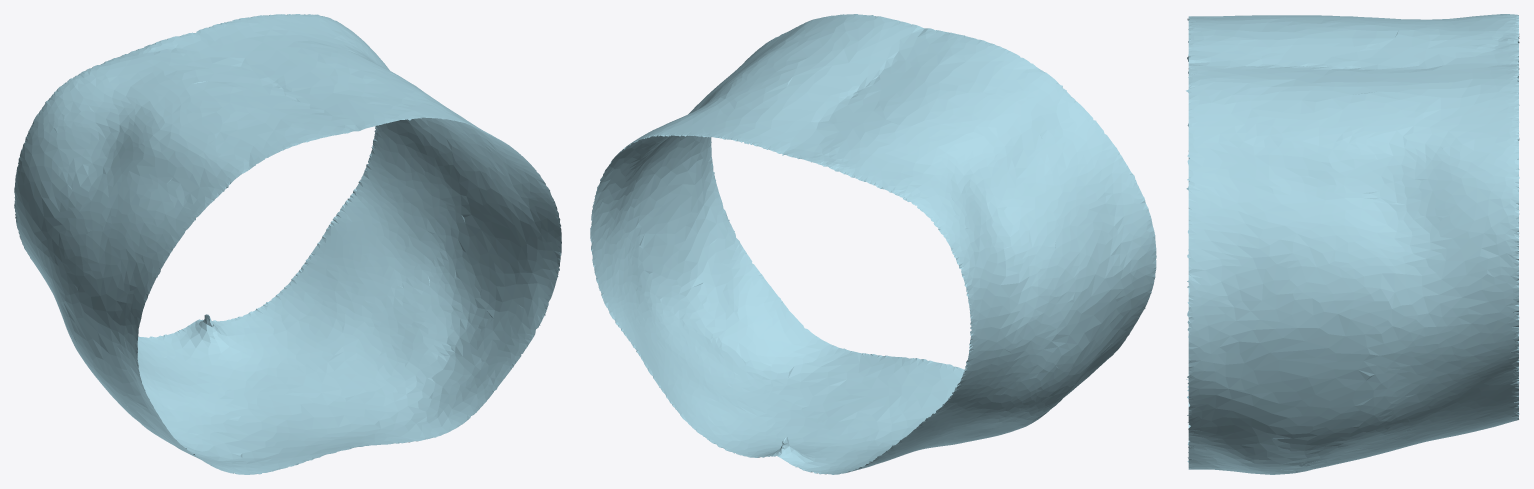
The model's file is skin.obj.
3 views of the same model, side by side, from view 1: azimuth 30°, elevation 25°; view 2: azimuth 150°, elevation 25°; view 3: azimuth 270°, elevation 25° (orthographic). The views are drawn at different scales.
Visible parts, largest first — view 1: grp1; view 2: grp1; view 3: grp1.
Part boxes in pixels (bbox=[...]): grp1: bbox=[14, 14, 561, 474]; grp1: bbox=[590, 14, 1156, 474]; grp1: bbox=[1186, 14, 1519, 474].
Bounding box in the file's own units: 339 × 254 × 211.
